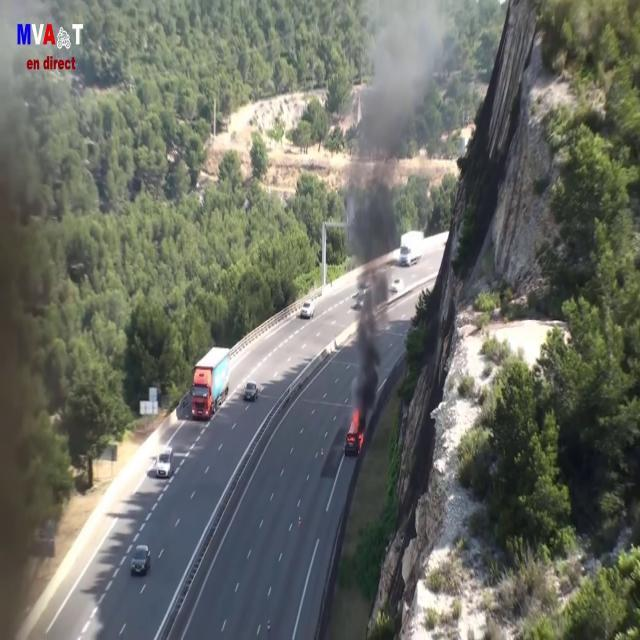Fire: (348, 402, 363, 450)
Smoke: (0, 29, 74, 628), (341, 1, 433, 402)
